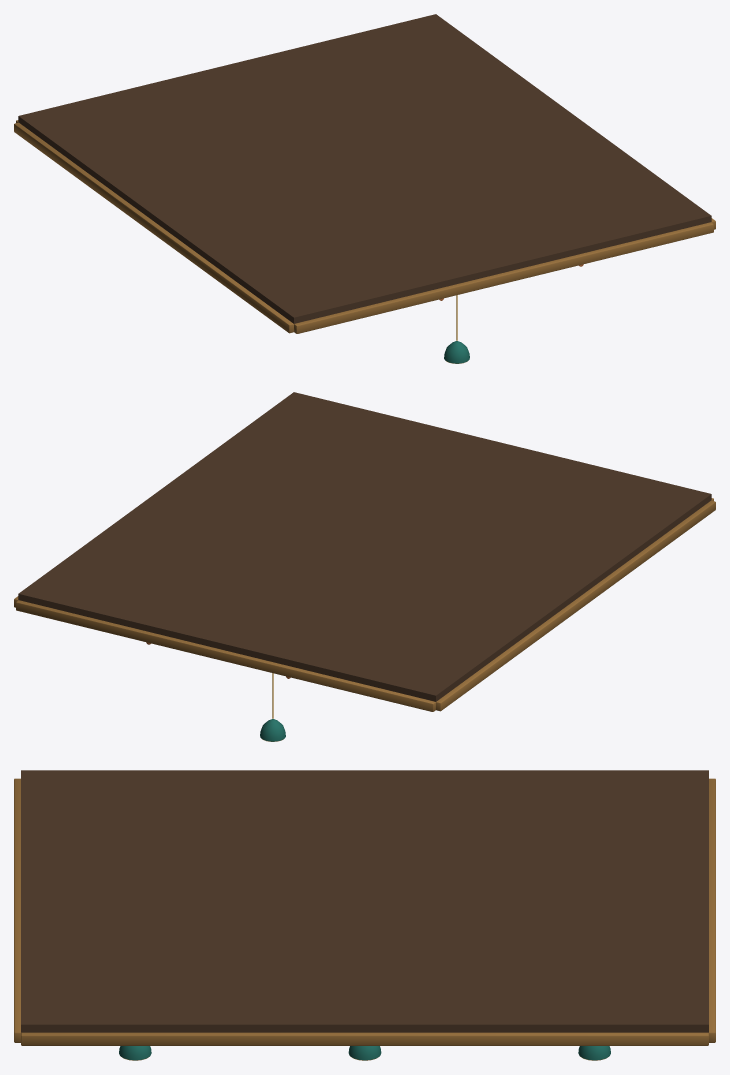
File: CeilingClock.fbx
3 renders of one model, top to bottom at view 1: azimuth 30°, elevation 25°; view 2: azimuth 150°, elevation 25°; view 3: azimuth 270°, elevation 25°, orthographic. The views are drawn at different scales.
Visible parts, largest first — view 1: CeilingClock; view 2: CeilingClock; view 3: CeilingClock.
Part boxes in pixels (x1=…): CeilingClock: x1=14, y1=14, x2=715, y2=363; CeilingClock: x1=14, y1=392, x2=715, y2=741; CeilingClock: x1=14, y1=770, x2=715, y2=1060.
Bounding box in the file's own units: 7160 × 2020 × 8160.
